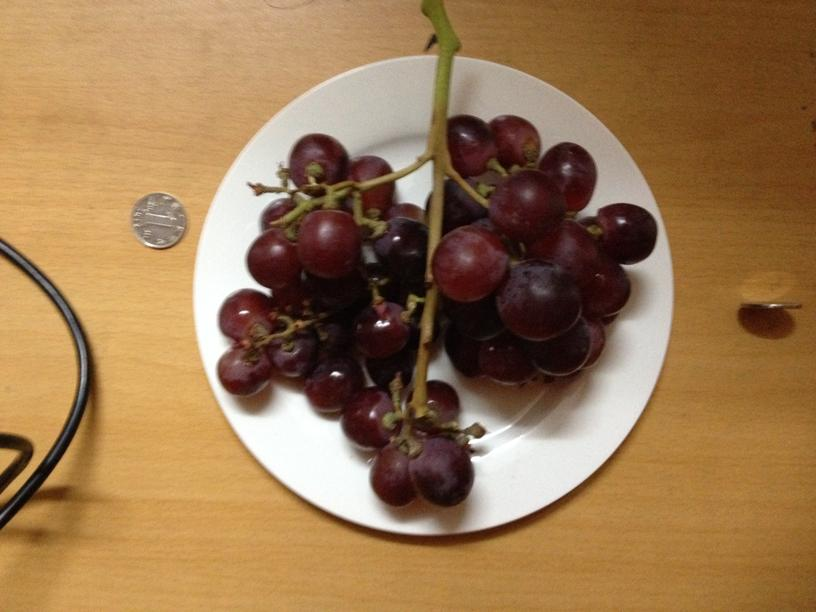coin: (129, 192, 187, 251)
grape: (224, 111, 657, 509)
